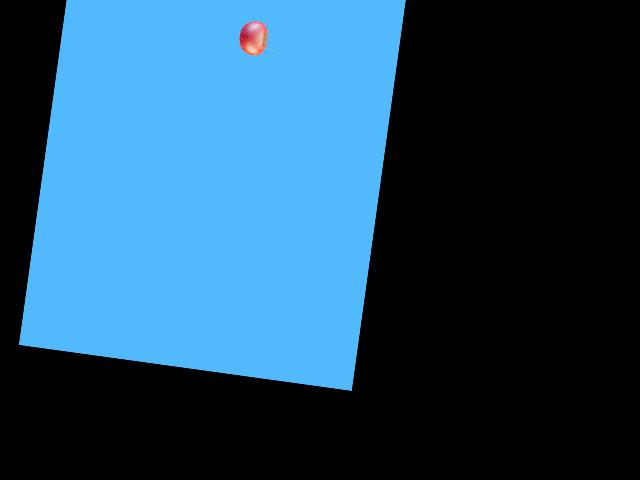tomato: (237, 18, 269, 56)
